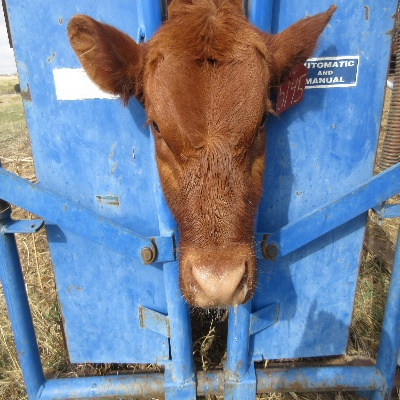fidget_spinner: (176, 259, 254, 310)
